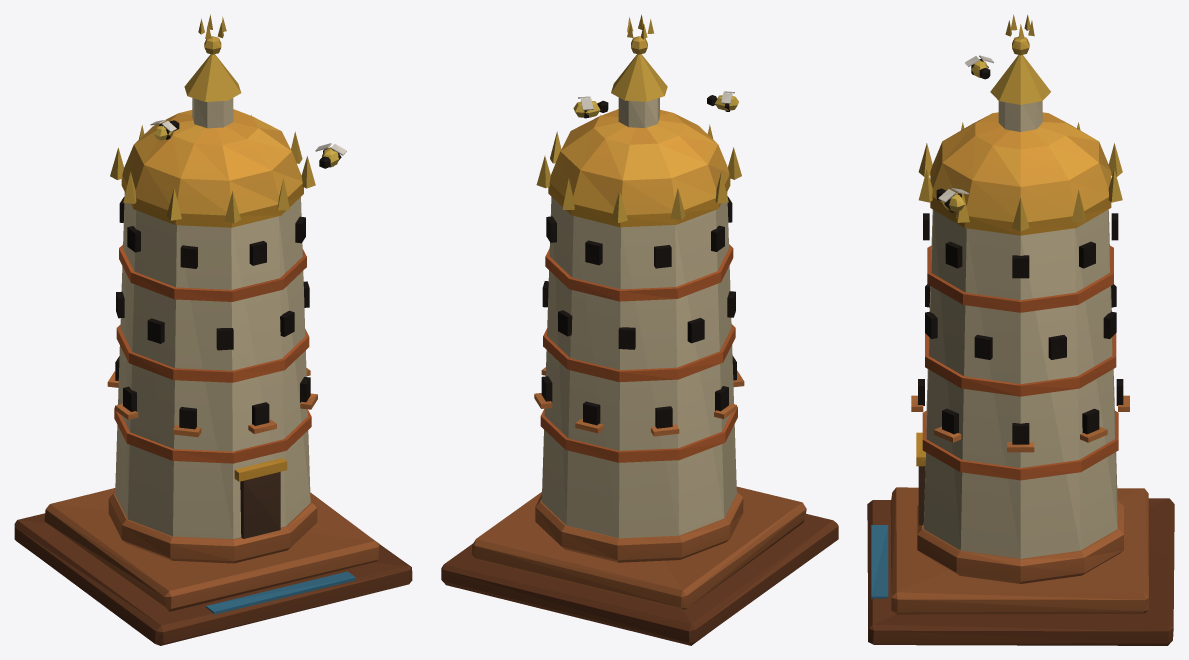
File: royal_apiary.glb
The picture shows the model from 3 angles, left to right: view 1: azimuth 30°, elevation 25°; view 2: azimuth 150°, elevation 25°; view 3: azimuth 270°, elevation 25°; orthographic projection. The views are drawn at different scales.
Visible parts, largest first — view 1: royal_apiary; view 2: royal_apiary; view 3: royal_apiary.
Part boxes in pixels (x1=…): royal_apiary: x1=14, y1=14, x2=412, y2=645; royal_apiary: x1=441, y1=14, x2=838, y2=645; royal_apiary: x1=867, y1=14, x2=1174, y2=645.
Bounding box in the file's own units: 0.9064 × 1.84 × 0.9047.
